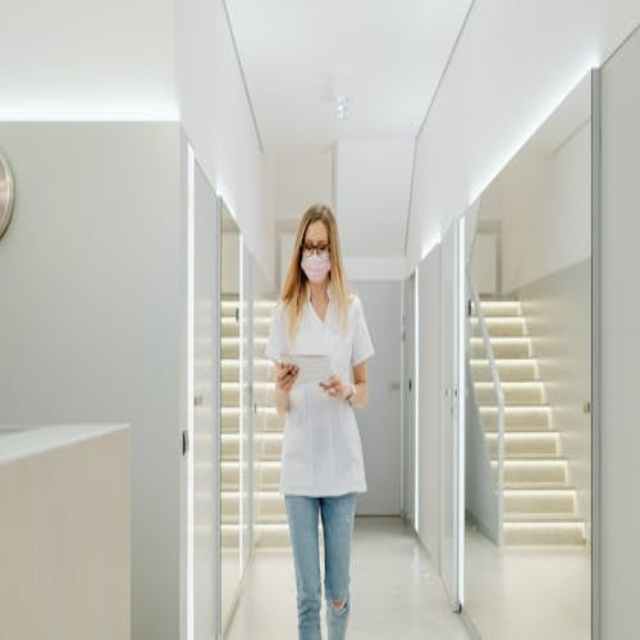Gafas: (303, 243, 330, 256)
Mascara: (301, 251, 331, 283)
Sin_guantes: (315, 369, 353, 406), (270, 354, 298, 398)
